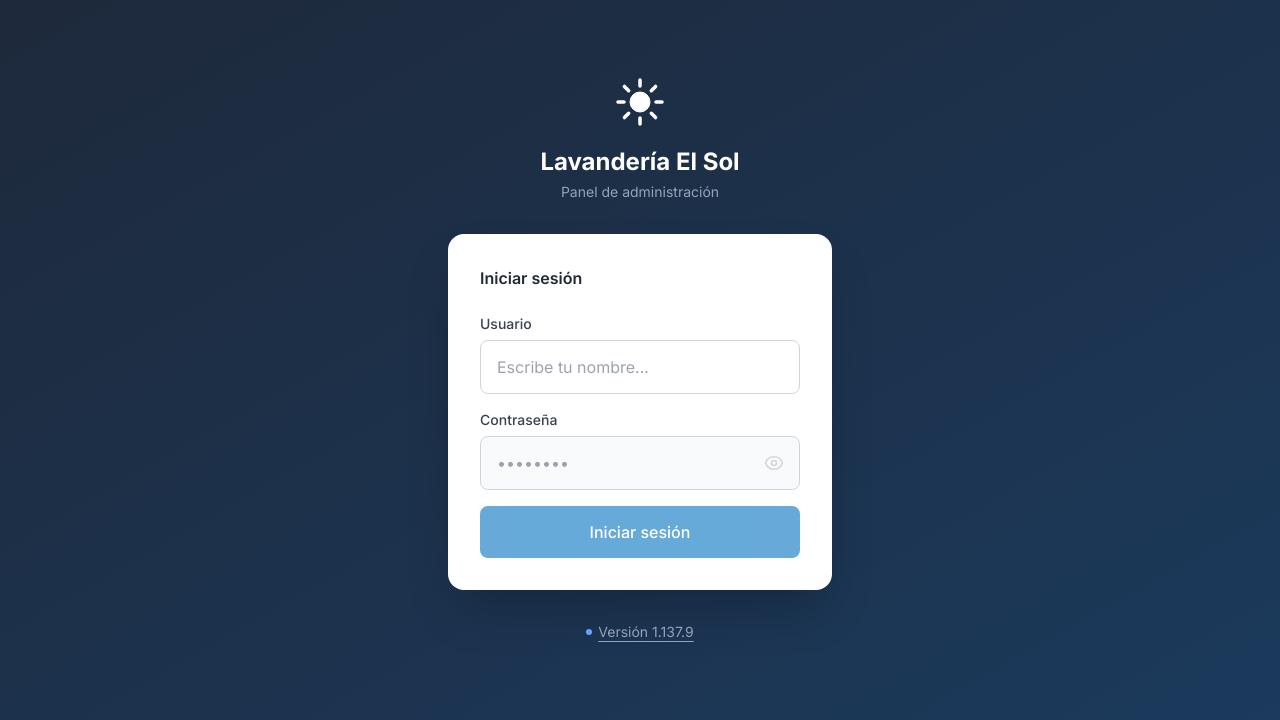
it: Login › vuelve a abrirse en cuanto el usuario sigue escribiendo
This screenshot has width=1280, height=720.
In the field with placeholder "Escribe tu nombre...": (640, 367) 480,340 -> 800,394, type "Juan"
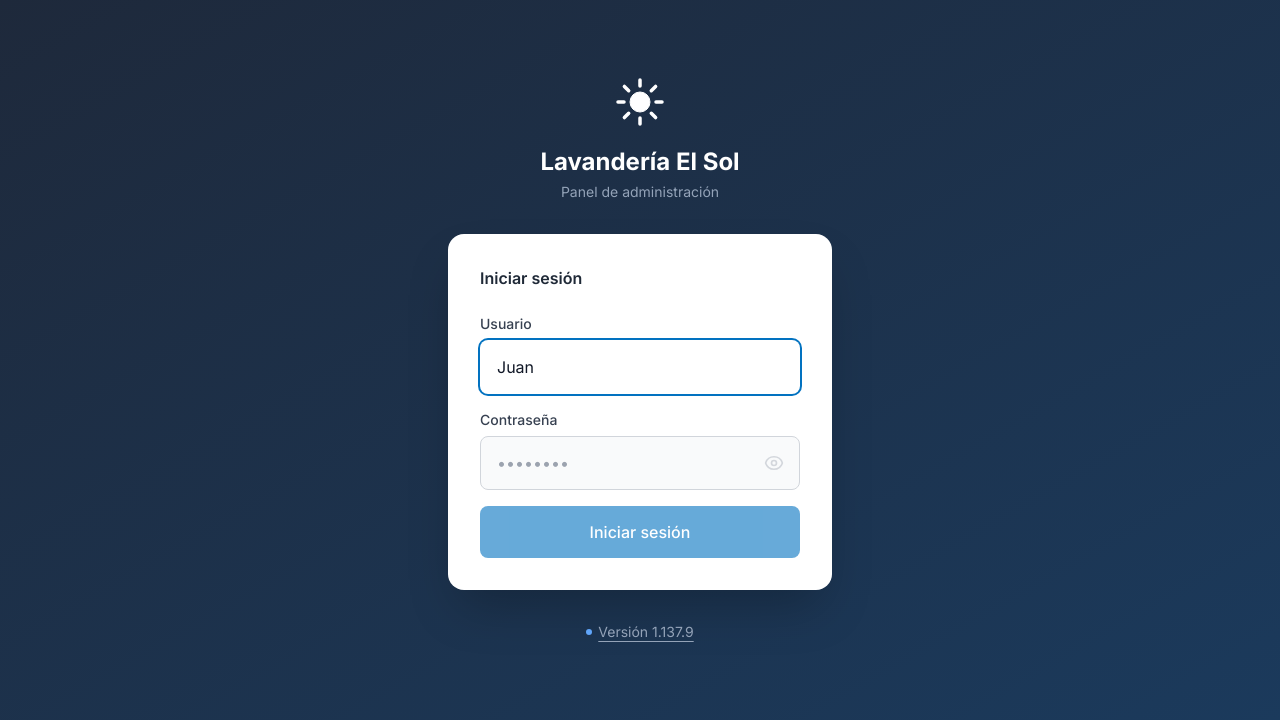
Click the element that starts with "Lavandería El Sol": (640, 360) 0,0 -> 1279,719
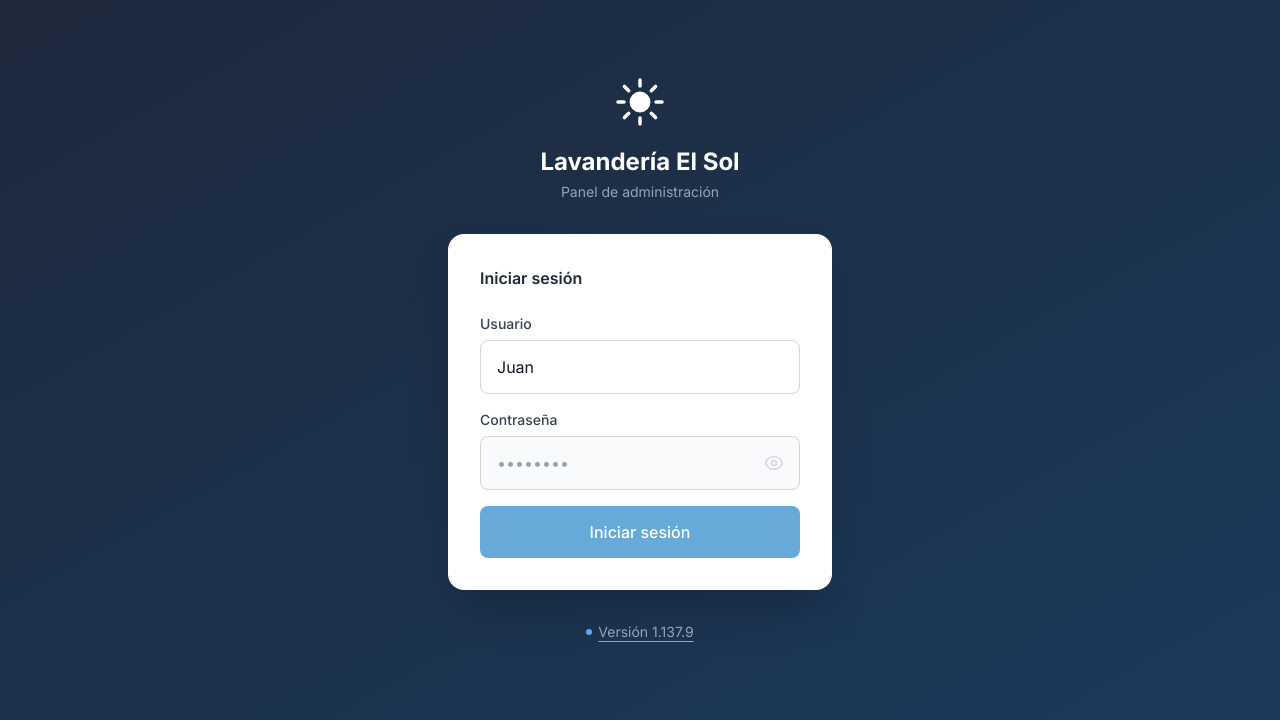
In the field with placeholder "Escribe tu nombre...": (640, 367) 480,340 -> 800,394, type "i"
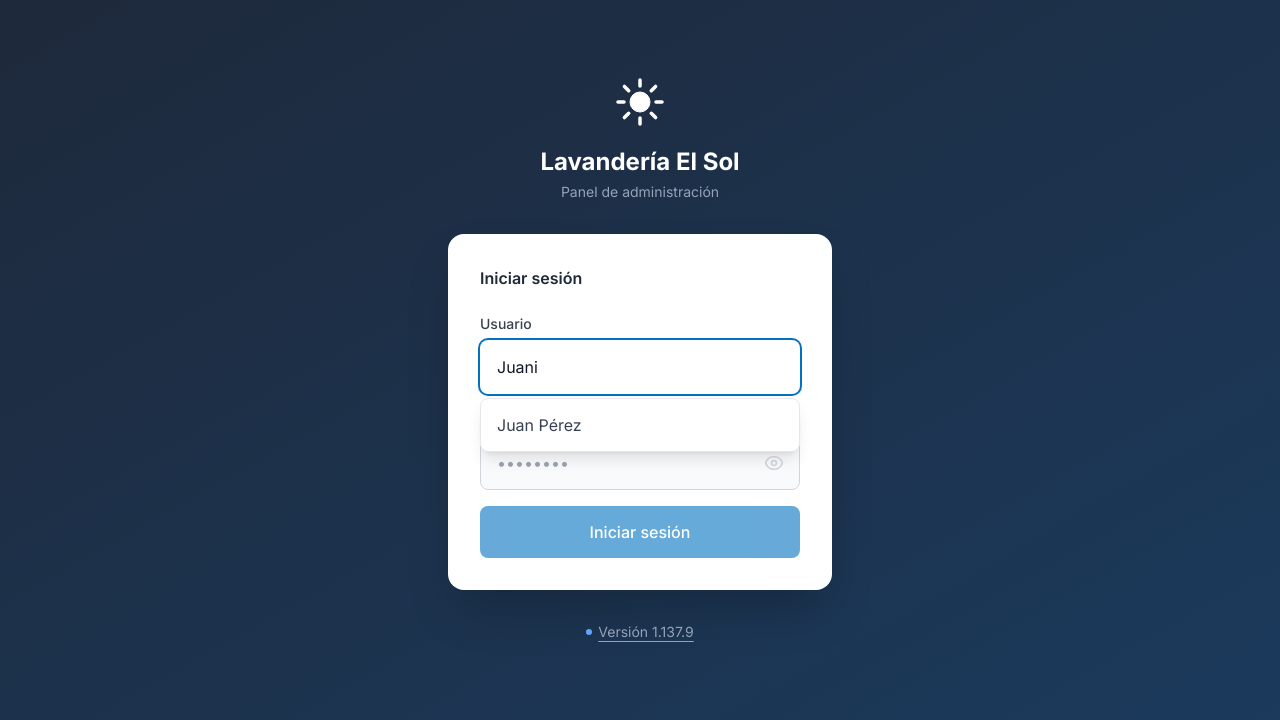
Expected: the button "Juan Pérez" is shown, 481,399 -> 799,451
